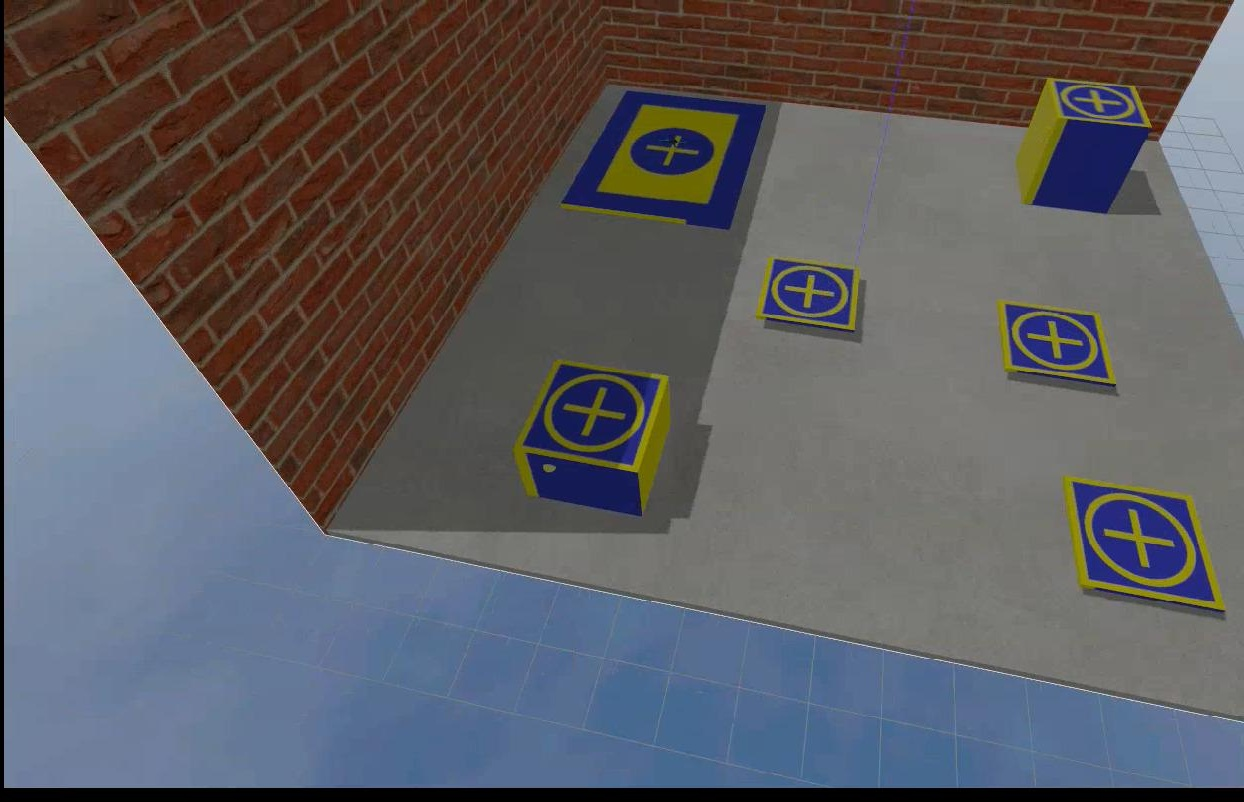large_base: (559, 91, 763, 232)
small_base: (1063, 477, 1226, 613), (509, 360, 667, 474), (996, 301, 1114, 391), (756, 261, 865, 337), (1043, 79, 1151, 130)
